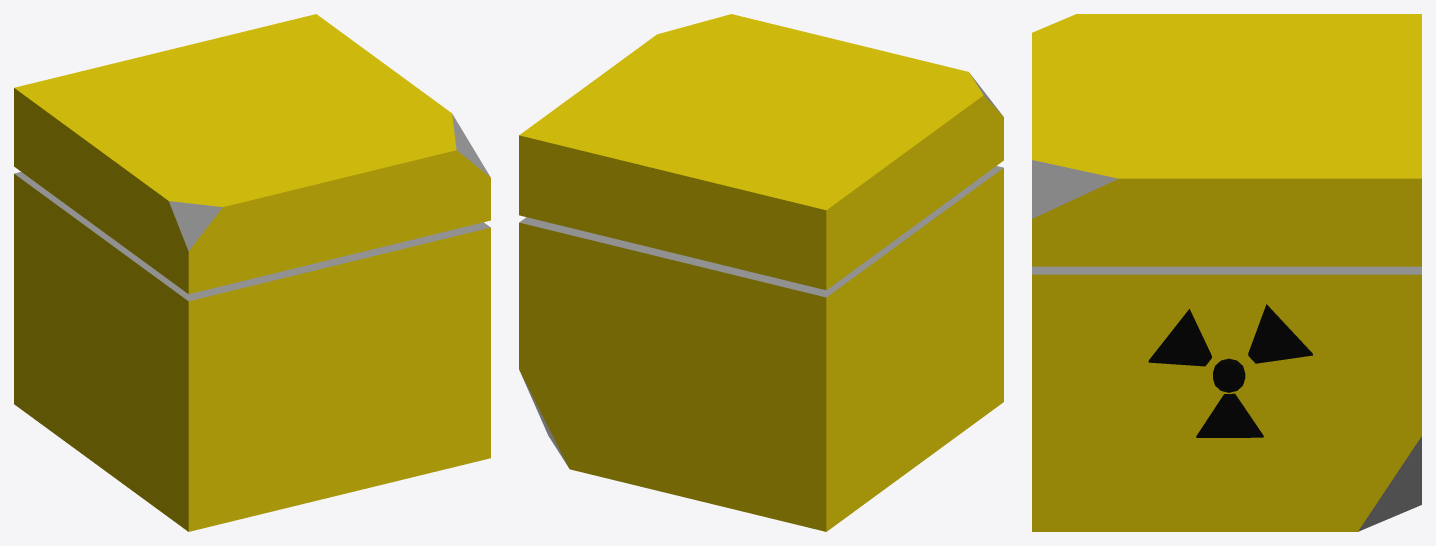
3 views of the same model, side by side, from view 1: azimuth 30°, elevation 25°; view 2: azimuth 150°, elevation 25°; view 3: azimuth 270°, elevation 25° (orthographic). The views are drawn at different scales.
Visible parts, largest first — view 1: Cube; view 2: Cube; view 3: Cube, Plane, Circle.
Boxes of the visible parts, left/top/right/bottom form: Cube: left=14, top=14, right=490, bottom=531; Cube: left=519, top=14, right=1003, bottom=531; Cube: left=1032, top=14, right=1421, bottom=531; Plane: left=1148, top=304, right=1312, bottom=437; Circle: left=1213, top=358, right=1245, bottom=392.
Bounding box in the file's own units: 206 × 200 × 200.
